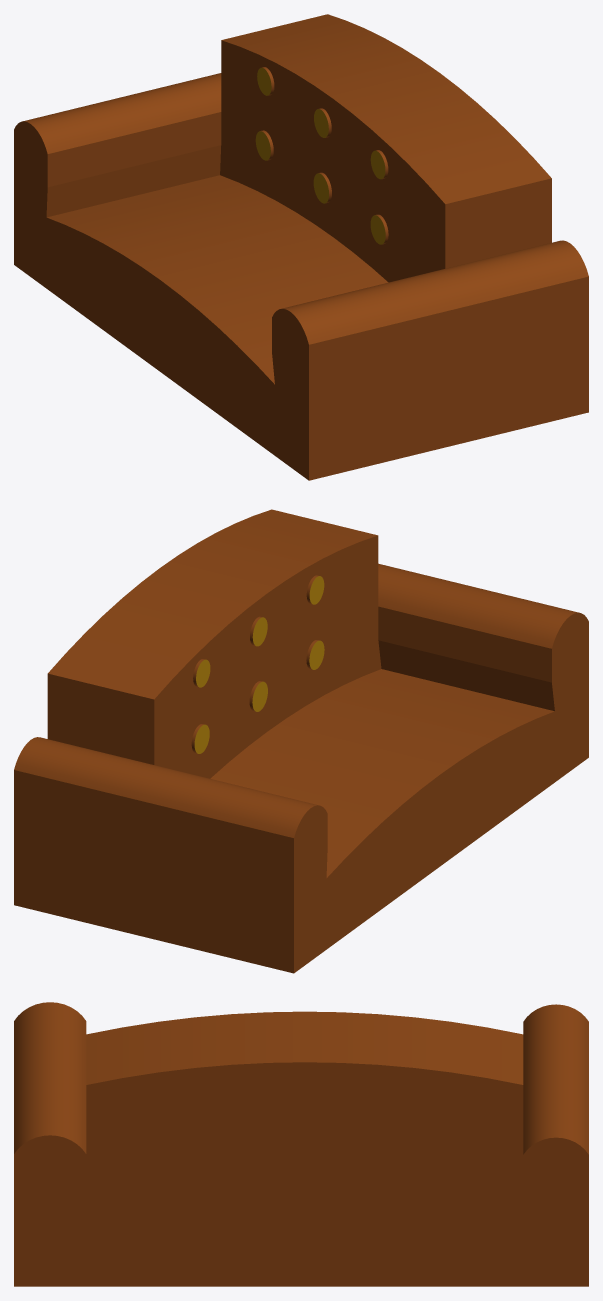
3 renders of one model, top to bottom at view 1: azimuth 30°, elevation 25°; view 2: azimuth 150°, elevation 25°; view 3: azimuth 270°, elevation 25°, orthographic. The views are drawn at different scales.
Parts seen in each view (by area): view 1: SketchUp; view 2: SketchUp; view 3: SketchUp.
Boxes of the visible parts, bbox=[...] form: SketchUp: bbox=[14, 14, 588, 480]; SketchUp: bbox=[14, 509, 588, 973]; SketchUp: bbox=[14, 1002, 588, 1286].
Bounding box in the file's own units: 94850 × 173089 × 74574.
